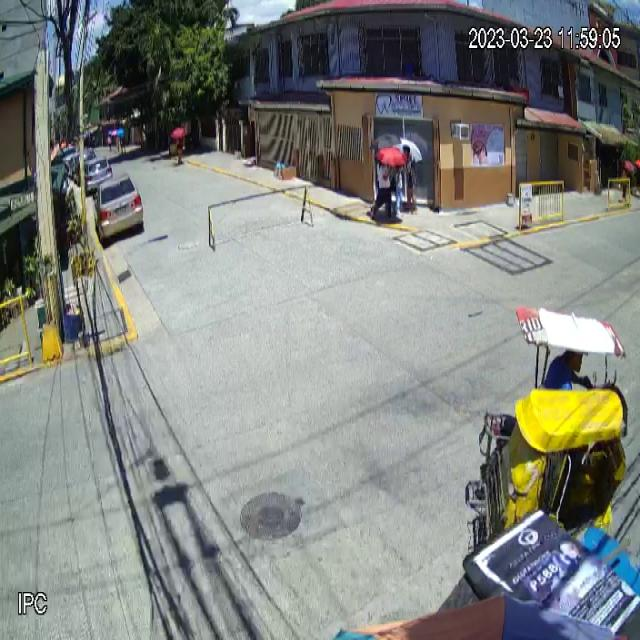Car: (93, 171, 144, 241)
Tricycle: (466, 305, 628, 558)
